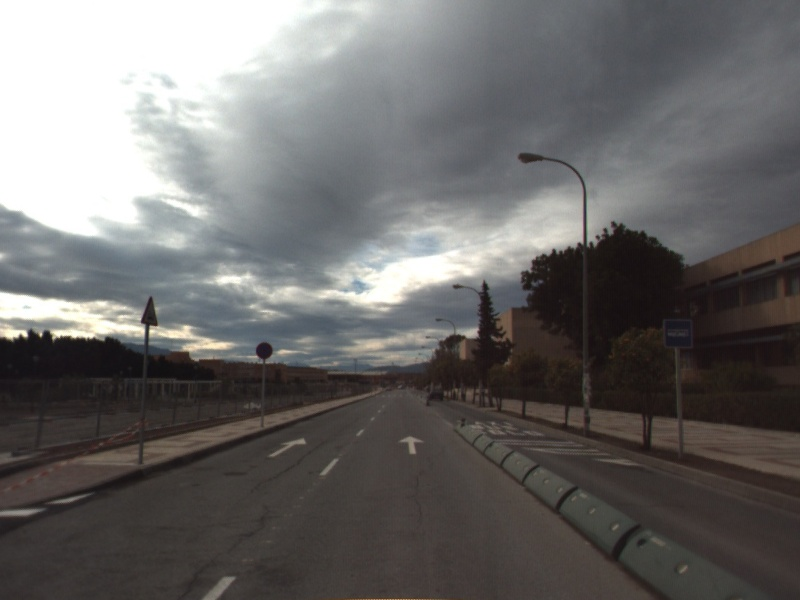STRAIGHT: (265, 435, 309, 459), (396, 434, 427, 456)
